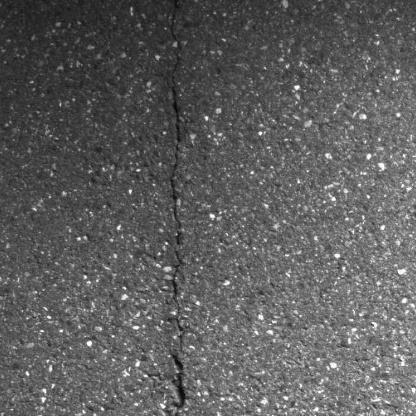Cracks: (165, 0, 192, 416)
